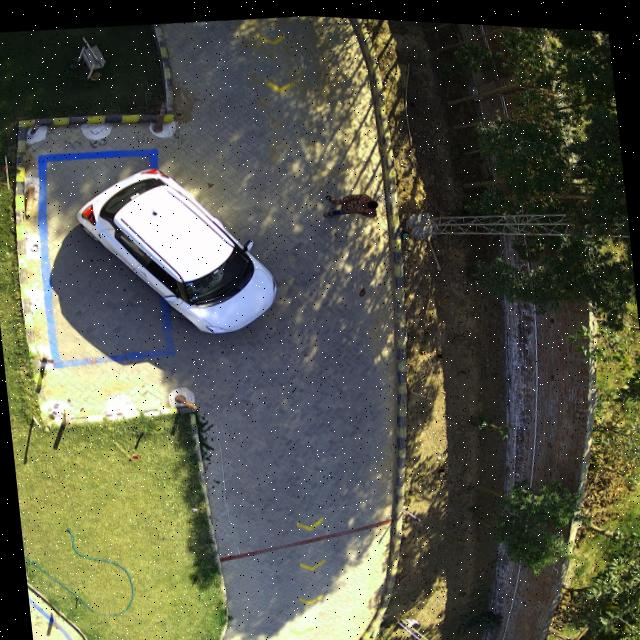car: (75, 165, 272, 330)
